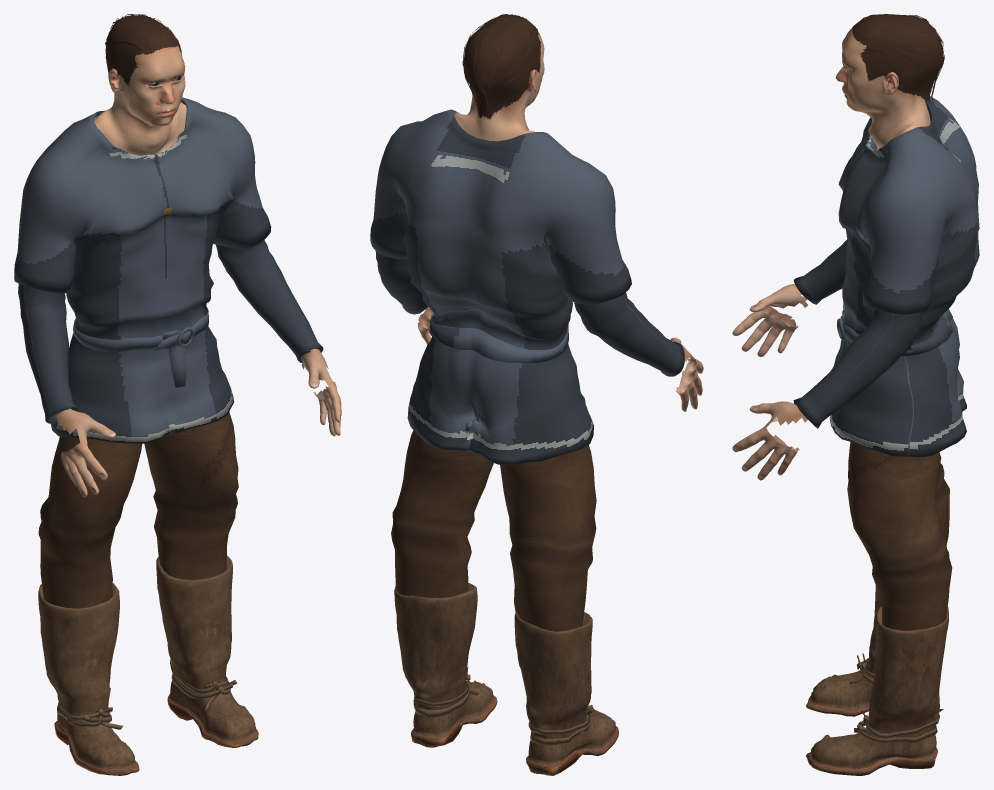
File: kest-field-tunic.glb
3 renders of one model, left to right at view 1: azimuth 30°, elevation 25°; view 2: azimuth 150°, elevation 25°; view 3: azimuth 270°, elevation 25°, orthographic.
Parts seen in each view (by area): view 1: kest-field-tunic runtime mesh; view 2: kest-field-tunic runtime mesh; view 3: kest-field-tunic runtime mesh.
Part boxes in pixels (x1,y1,x2,y2): kest-field-tunic runtime mesh: (14,14,341,775); kest-field-tunic runtime mesh: (370,14,703,775); kest-field-tunic runtime mesh: (732,14,979,775).
Size of the model in its own units: 0.7516 by 1.85 by 0.5772.
8 materials, 7 textured.
